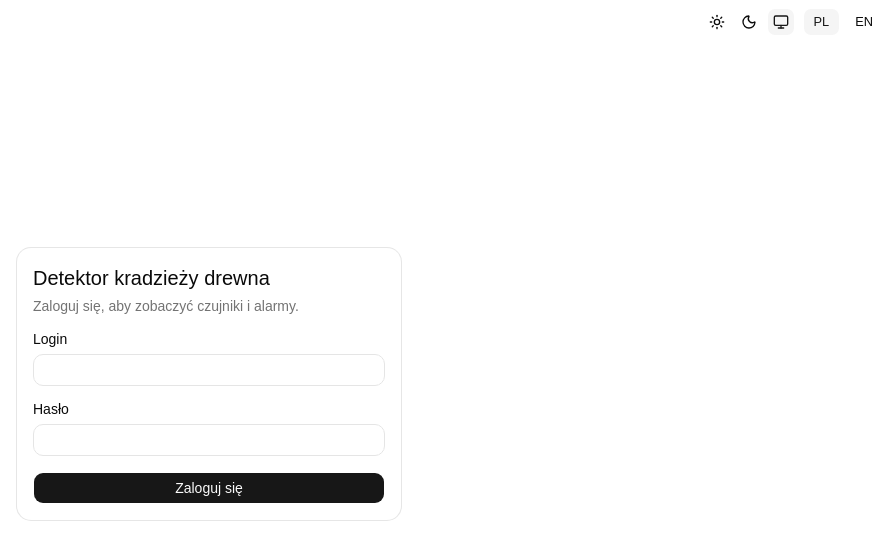
Test: login › logs in, saves the token and shows the home page
Type "blazej" into the field labelled "Login". click: (209, 370)
box: [33,354,385,386]
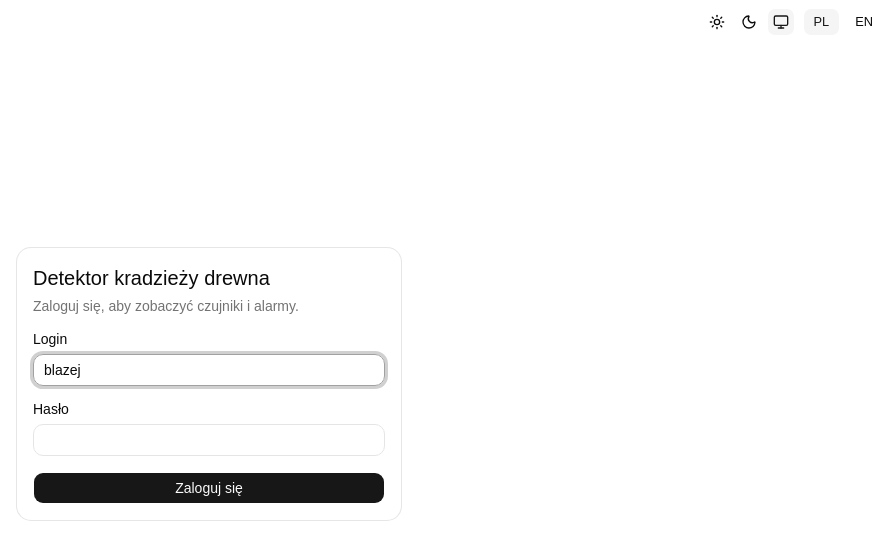
Type "tajne123" into the password field labelled "Hasło". click: (209, 440)
box: [33,424,385,456]
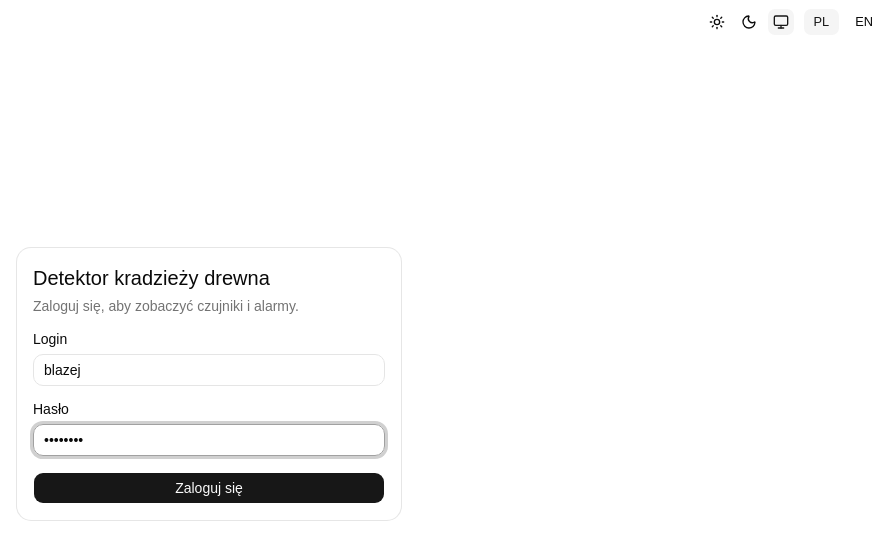
Click the button "Zaloguj się". click: (209, 488)
box: [33,472,385,504]
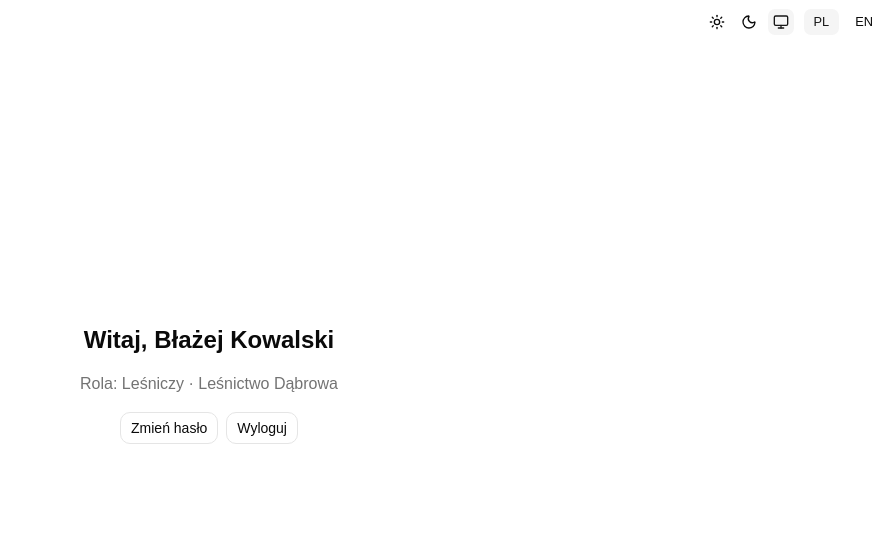
Check: the heading "Witaj, Błażej Kowalski" is shown, box [84,324,334,356]
Check: the text "Rola: Leśniczy · Leśnictwo Dąbrowa" is shown, box [80,372,338,396]
